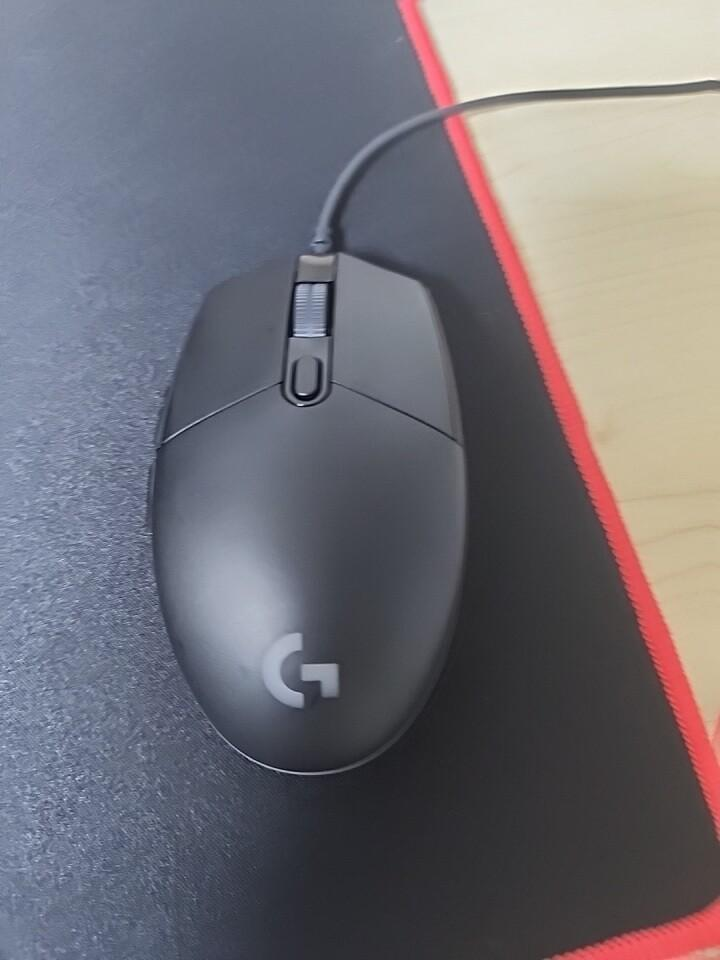mouse: (147, 249, 469, 777)
